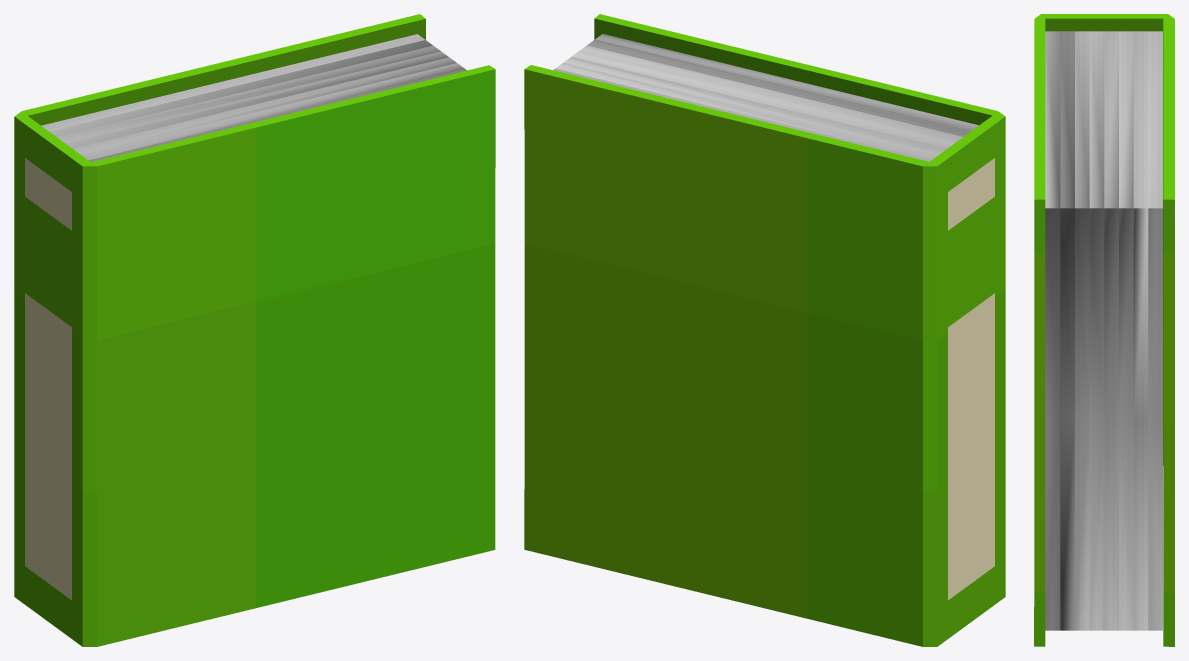
The model's file is bookcollection.fbx.
3 views of the same model, side by side, from view 1: azimuth 30°, elevation 25°; view 2: azimuth 150°, elevation 25°; view 3: azimuth 270°, elevation 25° (orthographic). The views are drawn at different scales.
Visible parts, largest first — view 1: green; view 2: green; view 3: green.
Boxes of the visible parts, left/top/right/bottom form: green: left=14, top=14, right=495, bottom=646; green: left=524, top=14, right=1005, bottom=646; green: left=1034, top=14, right=1174, bottom=646.
Bounding box in the file's own units: 178 × 200 × 57.05.
